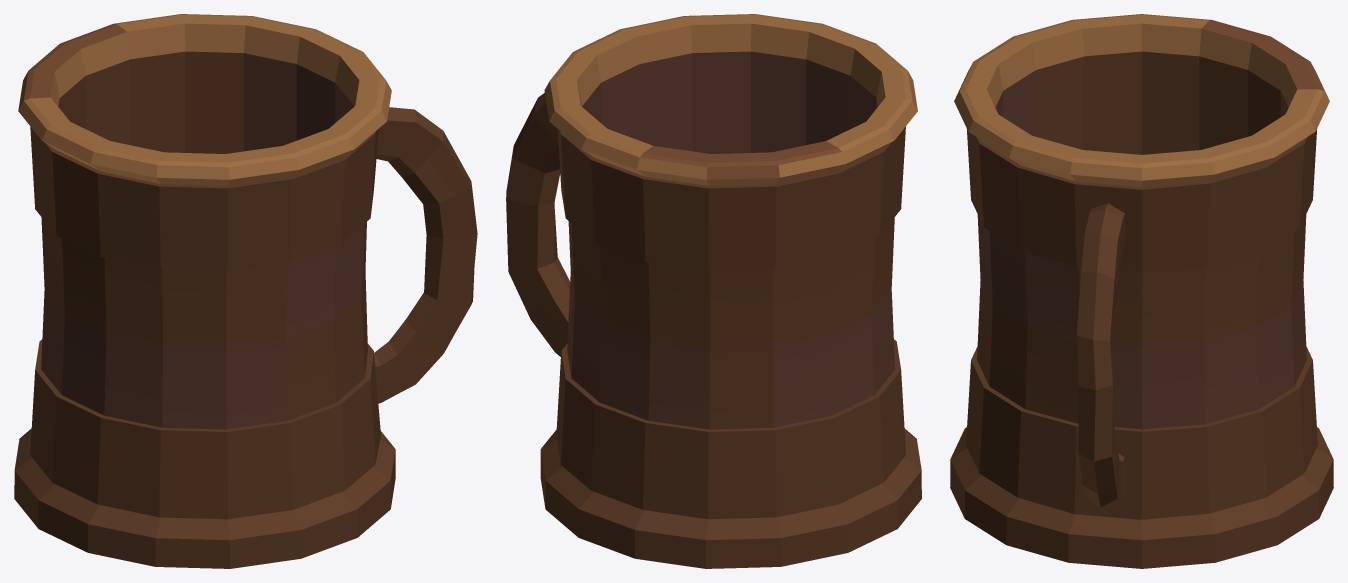
File: fixed_simple_mug.glb
The picture shows the model from 3 angles, left to right: view 1: azimuth 30°, elevation 25°; view 2: azimuth 150°, elevation 25°; view 3: azimuth 270°, elevation 25°; orthographic projection.
Visible parts, largest first — view 1: SimpleCup.001; view 2: SimpleCup.001; view 3: SimpleCup.001.
Boxes of the visible parts, x1,y1,x2,y2 form: SimpleCup.001: [14, 14, 477, 568]; SimpleCup.001: [506, 14, 921, 568]; SimpleCup.001: [950, 14, 1333, 568].
Size of the model in its own units: 0.25 by 0.2302 by 0.2008.
